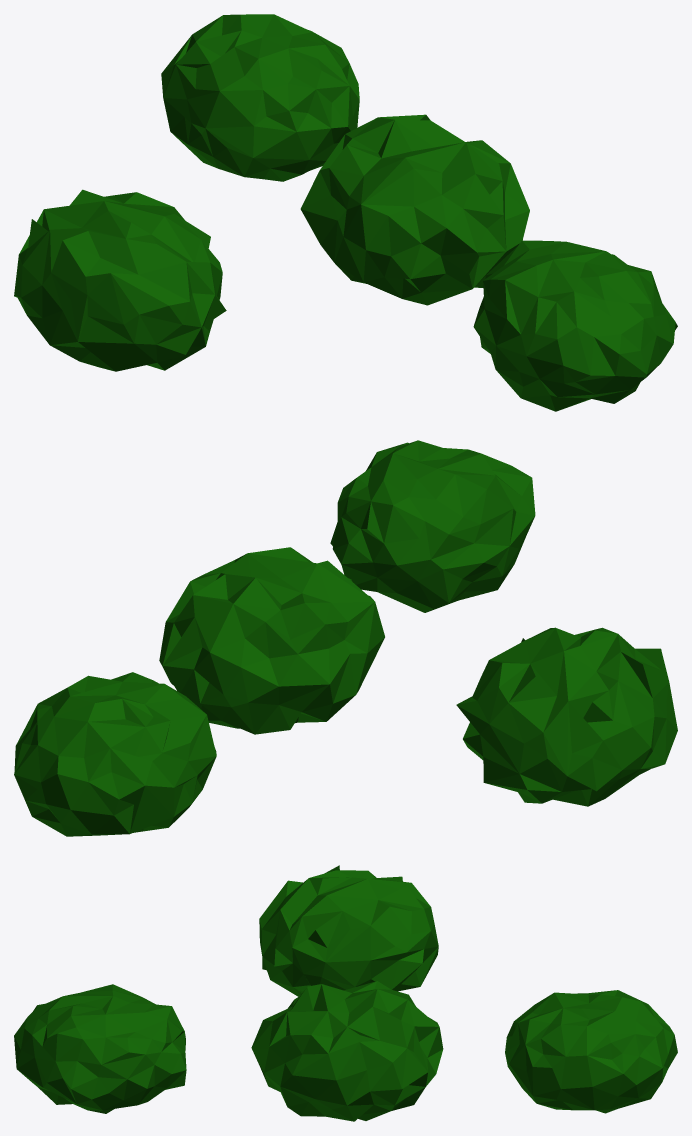
The model's file is Bushes.fbx.
The picture shows the model from 3 angles, top to bottom: view 1: azimuth 30°, elevation 25°; view 2: azimuth 150°, elevation 25°; view 3: azimuth 270°, elevation 25°; orthographic projection. The views are drawn at different scales.
Visible parts, largest first — view 1: Cube, Cube.003, Cube.001, Cube.002; view 2: Cube, Cube.003, Cube.002, Cube.001; view 3: Cube, Cube.003, Cube.002, Cube.001.
Boxes of the visible parts, bbox=[...] form: Cube: bbox=[300, 114, 529, 305]; Cube.003: bbox=[14, 189, 226, 371]; Cube.001: bbox=[161, 14, 359, 181]; Cube.002: bbox=[473, 240, 677, 411]; Cube: bbox=[159, 547, 384, 734]; Cube.003: bbox=[456, 627, 677, 806]; Cube.002: bbox=[330, 440, 535, 612]; Cube.001: bbox=[14, 672, 216, 836]; Cube: bbox=[251, 981, 443, 1121]; Cube.003: bbox=[259, 865, 438, 996]; Cube.002: bbox=[14, 984, 186, 1113]; Cube.001: bbox=[505, 990, 677, 1113].
Bounding box in the file's own units: 363 × 113 × 560.
